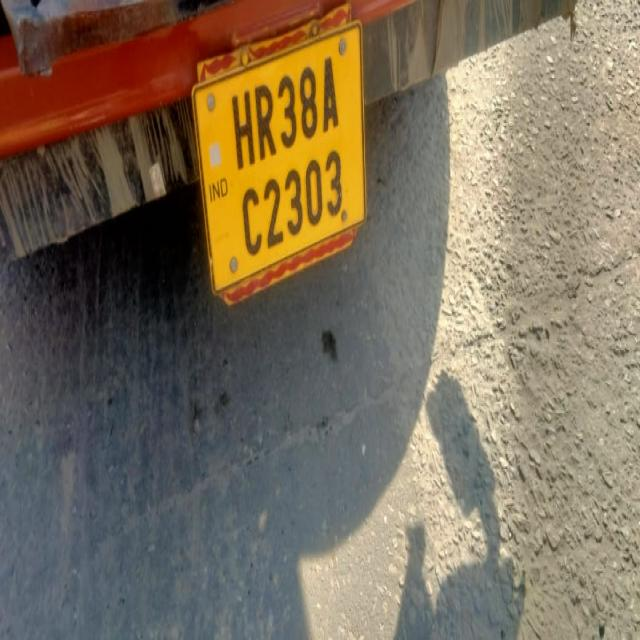License-plate: (211, 43, 369, 288)
